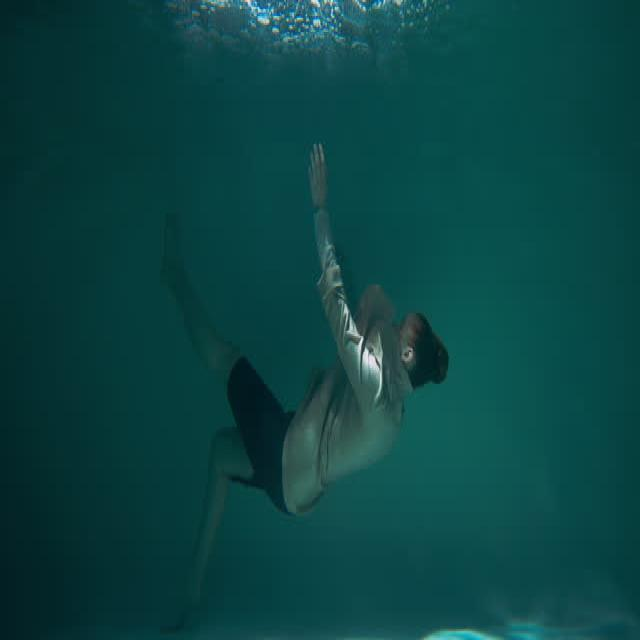drowning: (84, 130, 485, 590)
